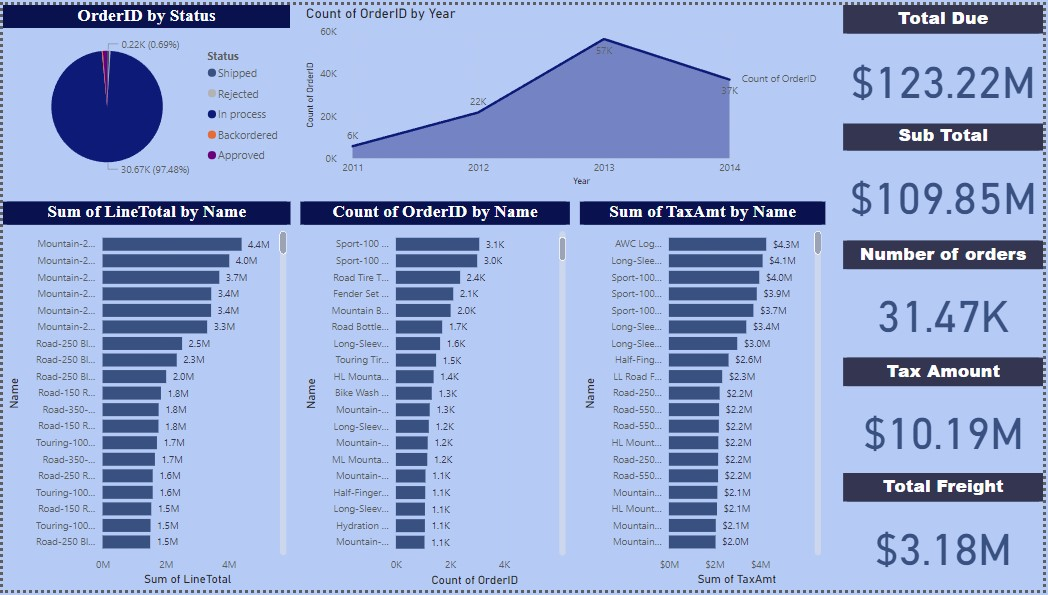

This screenshot's page, from the dashboard's own definition file:
{"tool":"powerbi","page":{"name":"Page 1","canvas":[1280,720],"ordinal":0},"visuals":[{"type":"card","title":"Number of orders","fields":{"Values":["CountNonNull(Order.OrderID)"]},"box":[1034,289.3,246.5,144],"z":0},{"type":"card","title":"Sub Total","fields":{"Values":["Sum(Order.SubTotal)"]},"box":[1034,143.8,246.5,144],"z":1000},{"type":"card","title":"Tax Amount","fields":{"Values":["Sum(Order.TaxAmt)"]},"box":[1034,434.8,246.5,144],"z":2000},{"type":"card","title":"Total Due","fields":{"Values":["Sum(Order.TotalDue)"]},"box":[1034,0,246,146],"z":3000},{"type":"card","title":"Total Freight","fields":{"Values":["Sum(Order.Freight)"]},"box":[1034,576.9,246.5,144],"z":4000},{"type":"pieChart","title":"OrderID by Status","fields":{"Y":["CountNonNull(Order.OrderID)"],"Category":["Status.Status"]},"box":[0,0,353.3,226.7],"z":5000},{"type":"barChart","fields":{"Category":["Product.Name"],"Y":["CountNonNull(OrderDetails.OrderID)"]},"box":[366.7,241.7,331.7,478.3],"z":6000},{"type":"barChart","fields":{"Category":["Product.Name"],"Y":["Sum(OrderDetails.LineTotal)"]},"box":[0,242,354,478],"z":7000},{"type":"barChart","fields":{"Category":["Product.Name"],"Y":["Sum(Order.TaxAmt)"]},"box":[710,242,302,478],"z":8000},{"type":"areaChart","fields":{"Category":["Order.OrderDate.Variation.Date Hierarchy.Year","Order.OrderDate.Variation.Date Hierarchy.Quarter","Order.OrderDate.Variation.Date Hierarchy.Month","Order.OrderDate.Variation.Date Hierarchy.Day"],"Y":["CountNonNull(OrderDetails.OrderID)"]},"box":[368,0,644,228],"z":9000}]}

Visuals, with their boxes in screenshot pixels (x1, y1, x2, y2), scaled from the page's 1280x720 canvas onto the 1048x595 screenshot:
"Number of orders" card: [x1=847, y1=239, x2=1047, y2=358]
"Sub Total" card: [x1=847, y1=119, x2=1047, y2=238]
"Tax Amount" card: [x1=847, y1=359, x2=1047, y2=478]
"Total Due" card: [x1=847, y1=0, x2=1047, y2=121]
"Total Freight" card: [x1=847, y1=477, x2=1047, y2=594]
"OrderID by Status" pieChart: [x1=0, y1=0, x2=289, y2=187]
barChart - Product.Name x CountNonNull(OrderDetails.OrderID): [x1=300, y1=200, x2=572, y2=594]
barChart - Product.Name x Sum(OrderDetails.LineTotal): [x1=0, y1=200, x2=290, y2=594]
barChart - Product.Name x Sum(Order.TaxAmt): [x1=581, y1=200, x2=829, y2=594]
areaChart - Order.OrderDate.Variation.Date Hierarchy.Year x Order.OrderDate.Variation.Date Hierarchy.Quarter: [x1=301, y1=0, x2=829, y2=188]
